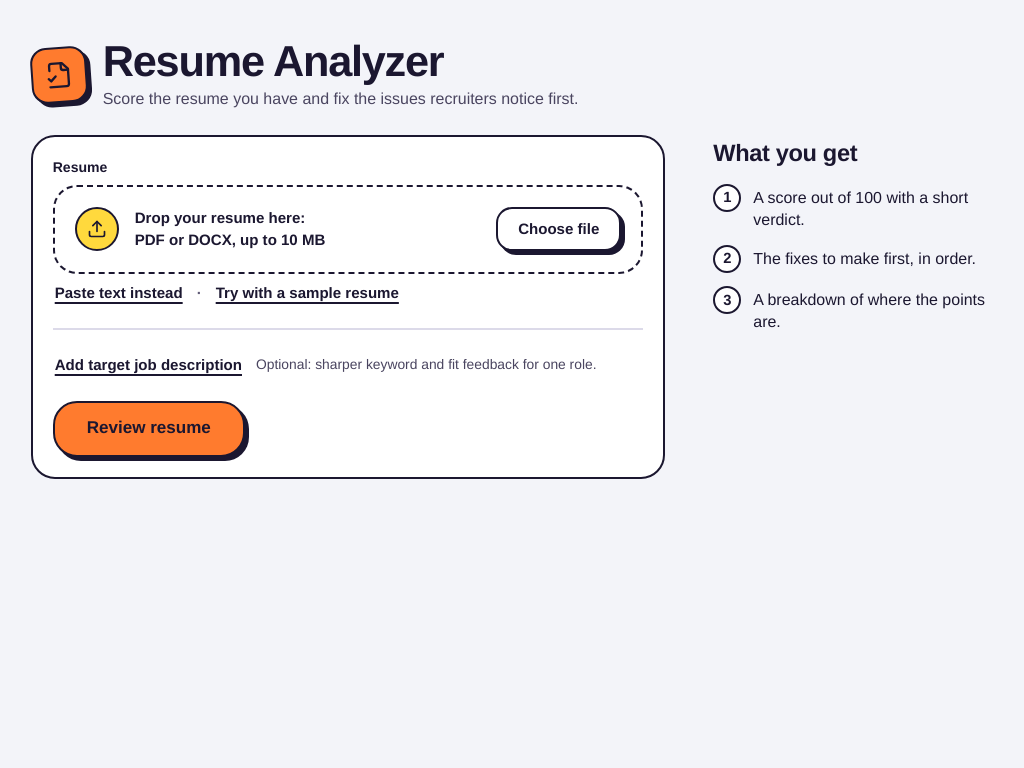
Test: ToolRouteScreen › shows a compact dropzone when there is no resume and opens the editor on paste
expect the heading "Resume Analyzer" is shown: met, box [103,35,444,88]
expect the text "PDF or DOCX, up to 10 MB" is shown: met, box [135,230,325,250]
Click the button "Paste text instead": [119, 293] box [53,282,185,304]
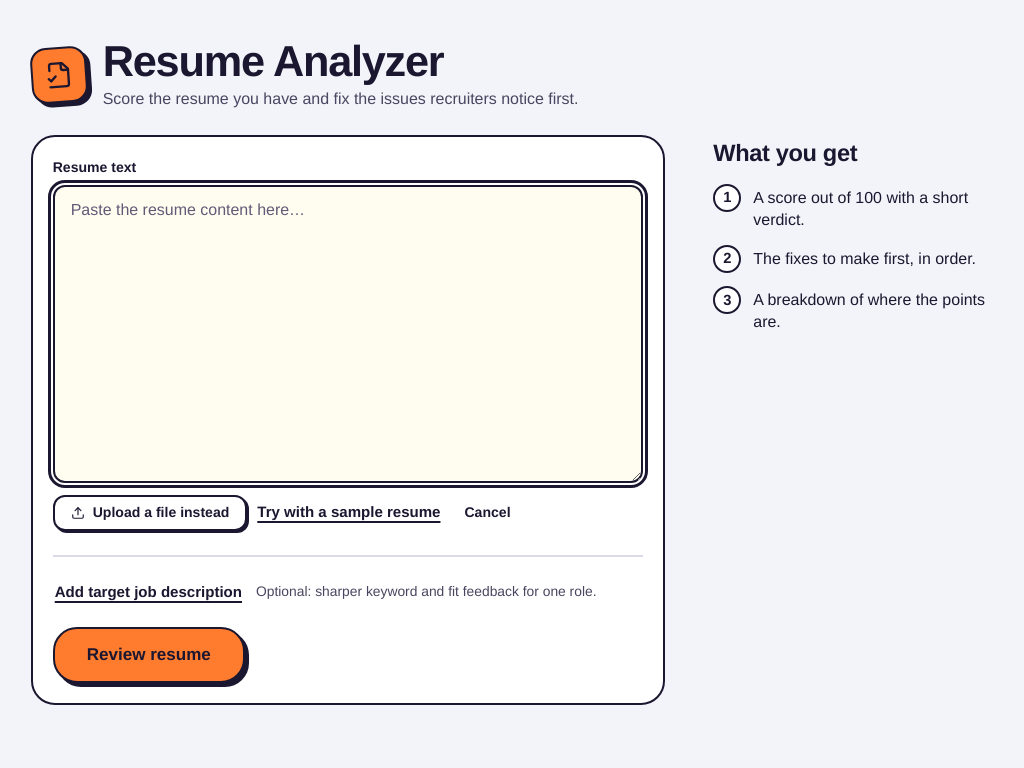
expect the button "Add target job description" is shown: met, box [53,580,244,603]
expect the text box labelled "Resume text" is shown: met, box [53,184,643,482]
